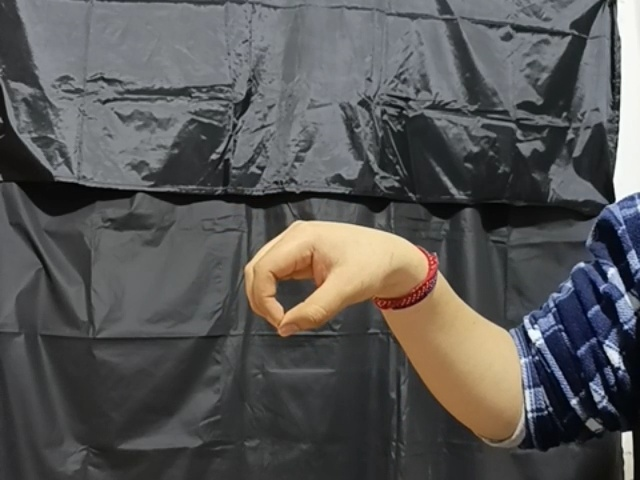O: (237, 203, 412, 337)
